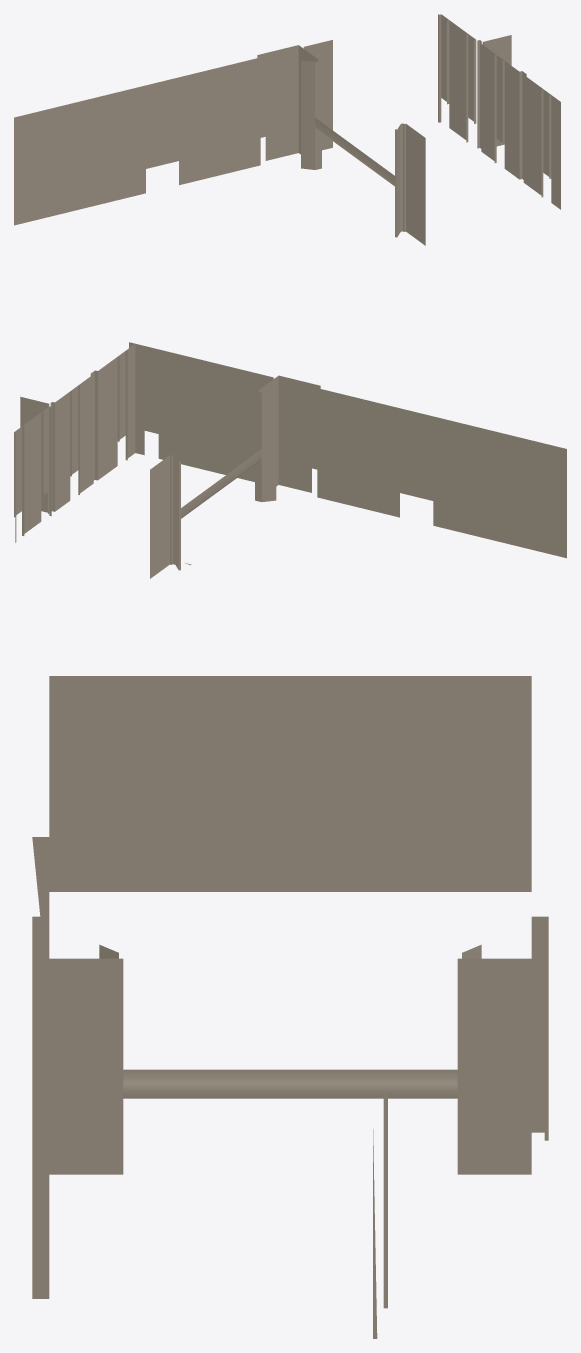
Rendered from ConferenceRoom0.gltf.
The picture shows the model from 3 angles, top to bottom: view 1: azimuth 30°, elevation 25°; view 2: azimuth 150°, elevation 25°; view 3: azimuth 270°, elevation 25°; orthographic projection. The views are drawn at different scales.
Parts seen in each view (by area): view 1: 室内-二层墙体Part1; view 2: 室内-二层墙体Part1; view 3: 室内-二层墙体Part1.
Part boxes in pixels (box(x1,y1,x2,y2)): 室内-二层墙体Part1: box(14, 14, 560, 245); 室内-二层墙体Part1: box(14, 342, 566, 578); 室内-二层墙体Part1: box(32, 676, 548, 1338).
Size of the model in its own units: 49.95 by 11.26 by 24.4.
